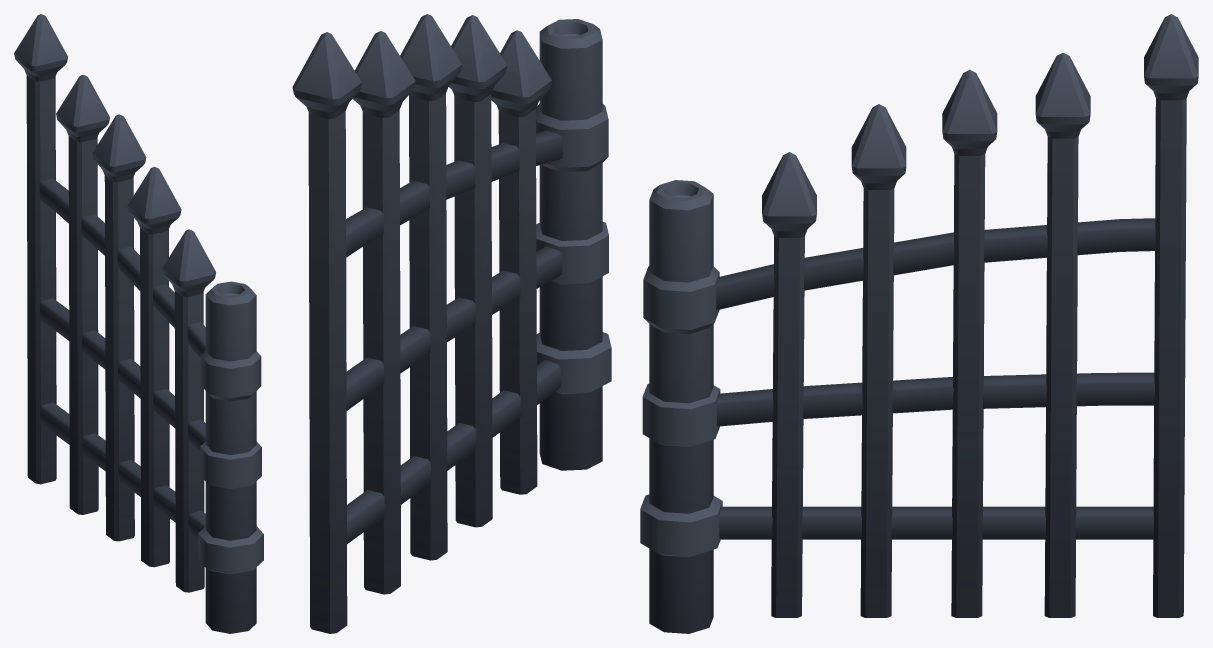
The model's file is Gate.obj.
3 renders of one model, left to right at view 1: azimuth 30°, elevation 25°; view 2: azimuth 150°, elevation 25°; view 3: azimuth 270°, elevation 25°, orthographic. The views are drawn at different scales.
Parts seen in each view (by area): view 1: Gate; view 2: Gate; view 3: Gate.
Part boxes in pixels (left/top/right/bottom): Gate: left=14, top=14, right=263, bottom=633; Gate: left=292, top=14, right=611, bottom=633; Gate: left=640, top=14, right=1198, bottom=633.
Size of the model in its own units: 0.2017 by 1.64 by 1.37.
